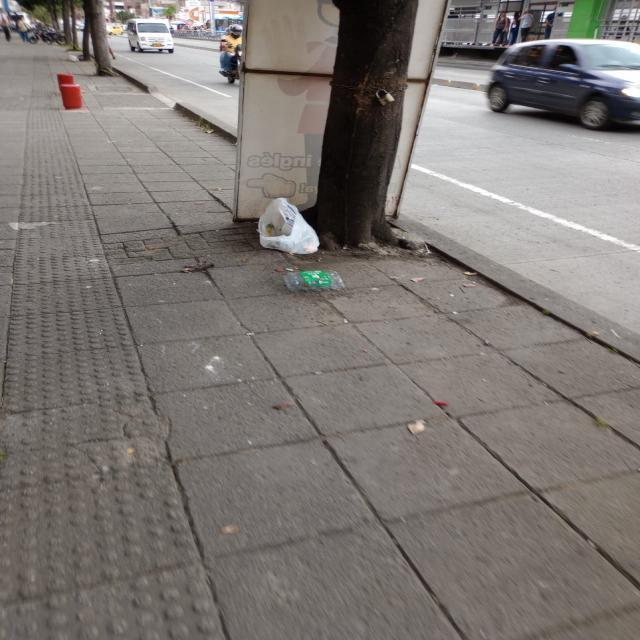Garbage_Bag: (252, 192, 330, 258)
